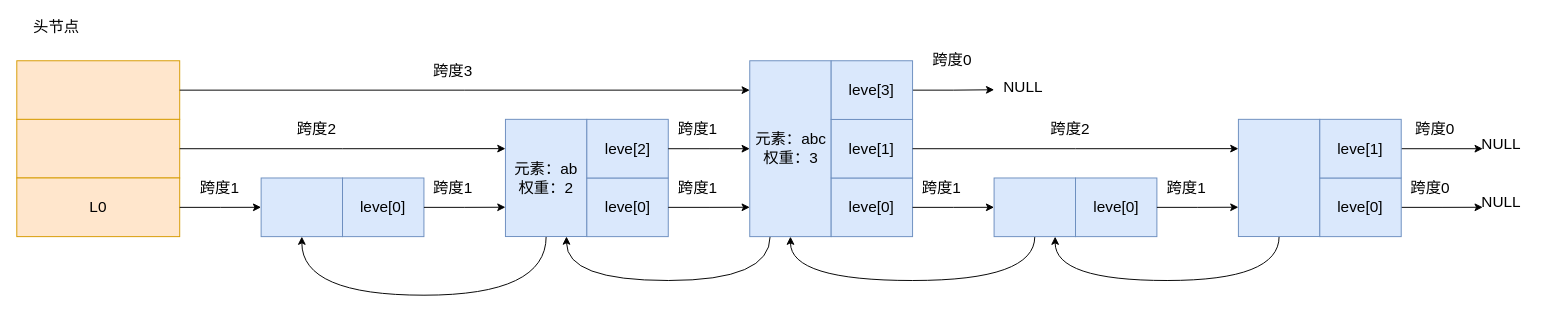
Some shapes in this 1560 by 312 pixel diagram are drawn without their labels. Here are the shapes that lost their labels. From the top down, the centre of each, then its label:
At (x=98, y=89): "L2".
At (x=98, y=148): "L1".
At (x=1278, y=177): "元素：abcd 权重：5".
At (x=301, y=207): "元素：a 权重：1".
At (x=1034, y=207): "元素：abcd 权重：4".
